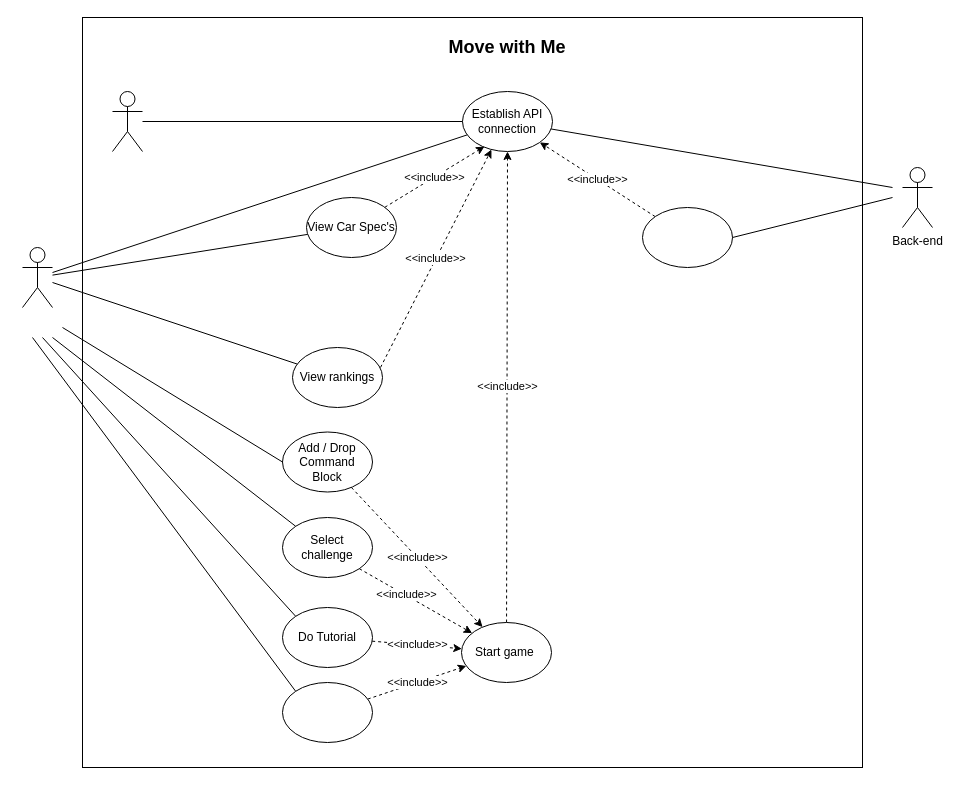
This 960x785 diagram has some shape labels left out. Here are the shapes that lost their labels. From the top down, the centre of each, then its label:
At point 127,121: "Robotic Car".
At point 687,237: "Send Patterns".
At point 37,277: "Student".
At point 327,712: "Set Player Name".
